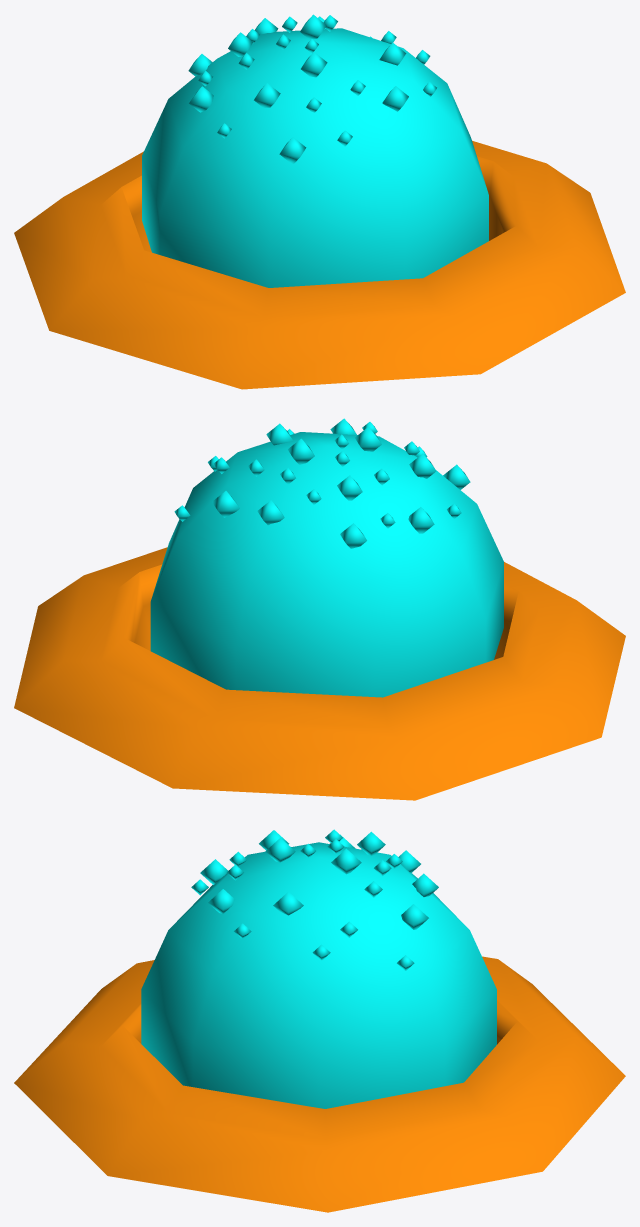
The model's file is Lago_Huevo LP 2.fbx.
3 renders of one model, top to bottom at view 1: azimuth 30°, elevation 25°; view 2: azimuth 150°, elevation 25°; view 3: azimuth 270°, elevation 25°, orthographic. The views are drawn at different scales.
Visible parts, largest first — view 1: Helado LP 2; view 2: Helado LP 2; view 3: Helado LP 2.
Boxes of the visible parts, x1,y1,x2,y2 form: Helado LP 2: (14, 14, 625, 389); Helado LP 2: (14, 418, 625, 800); Helado LP 2: (14, 829, 625, 1212).
Bounding box in the file's own units: 255 × 123 × 249.
